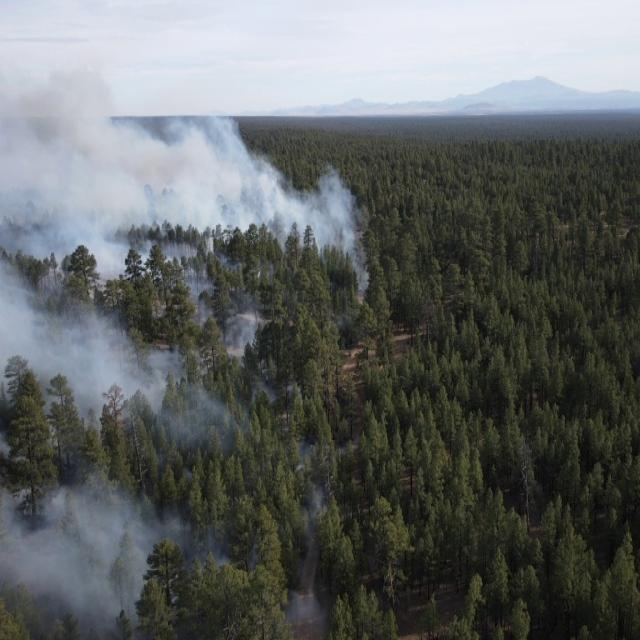smoke: (0, 241, 331, 639), (0, 69, 114, 241), (114, 116, 248, 242), (247, 153, 352, 243), (318, 236, 376, 292)
